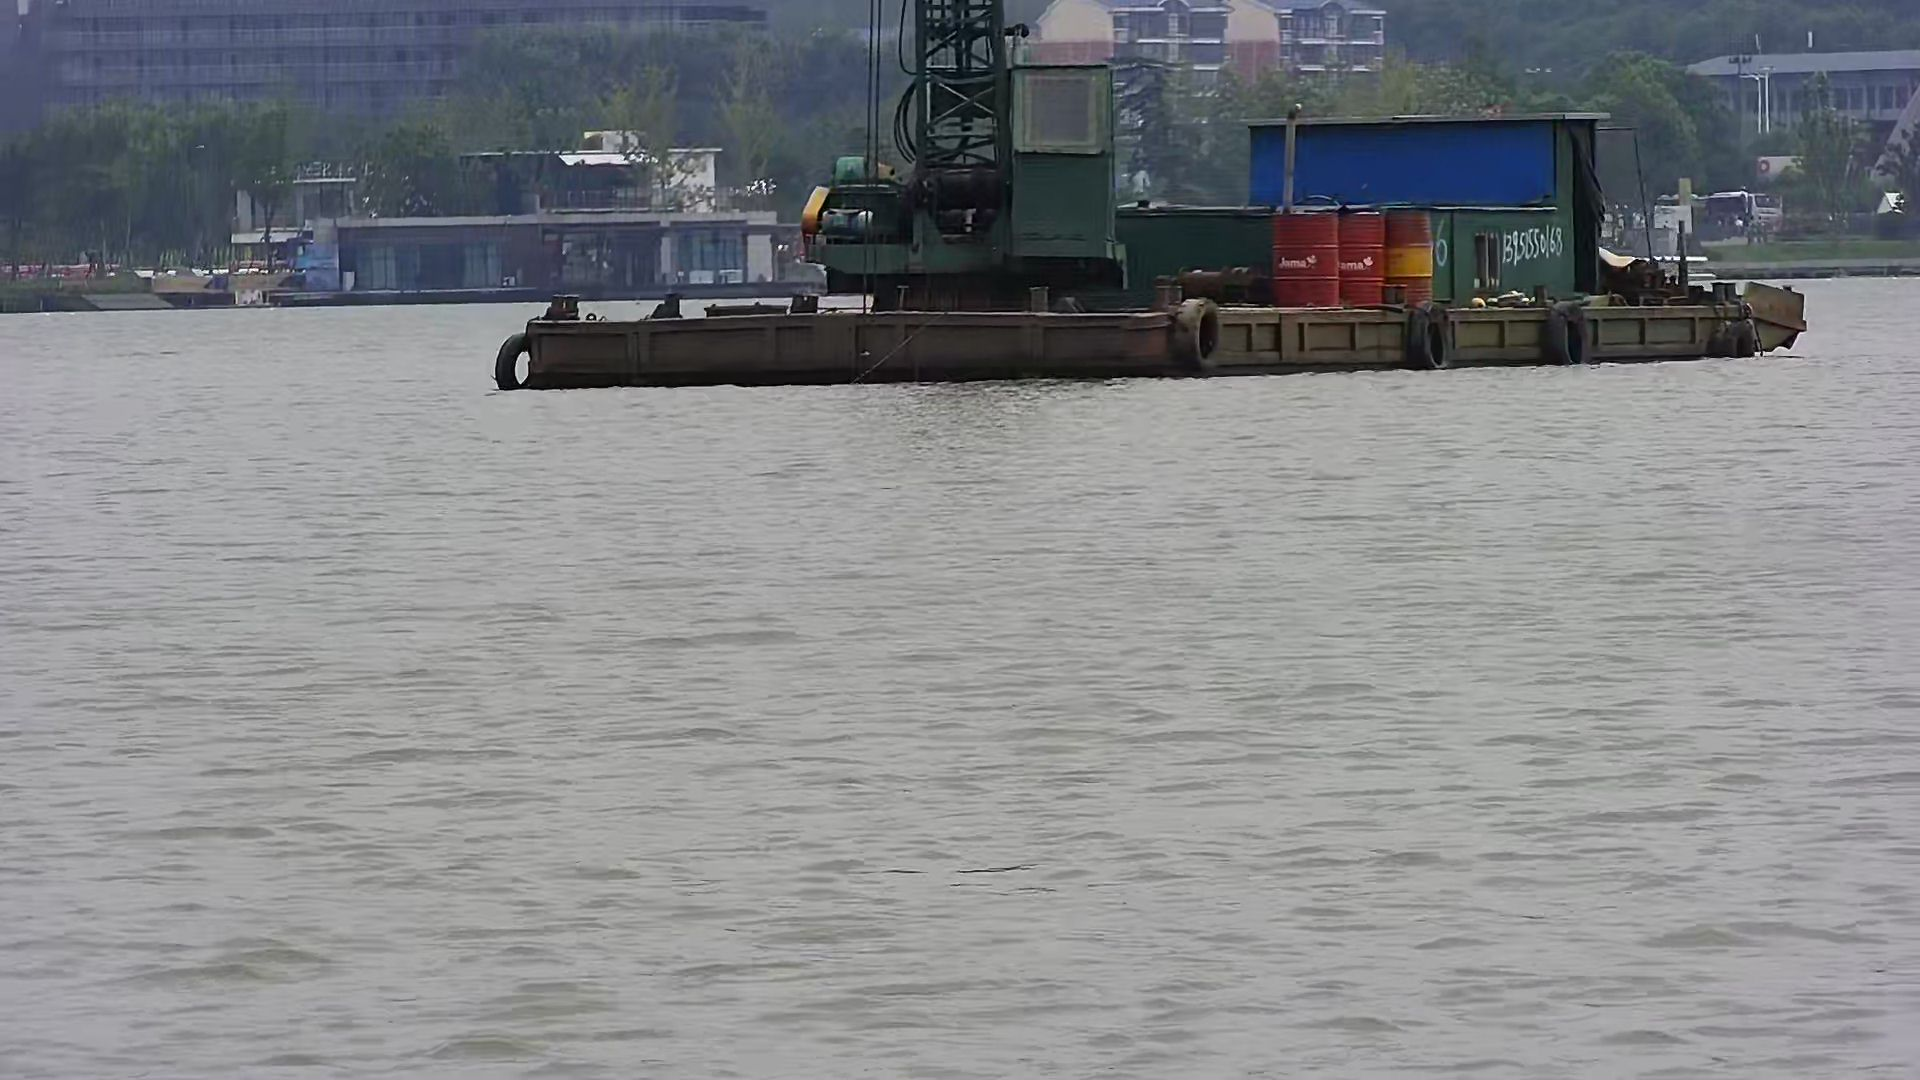ship: (502, 18, 1813, 382)
